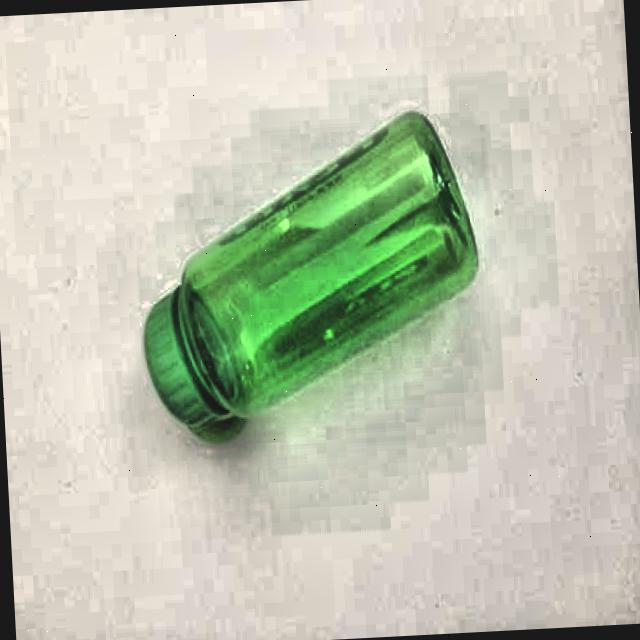plastic: (130, 105, 490, 446)
